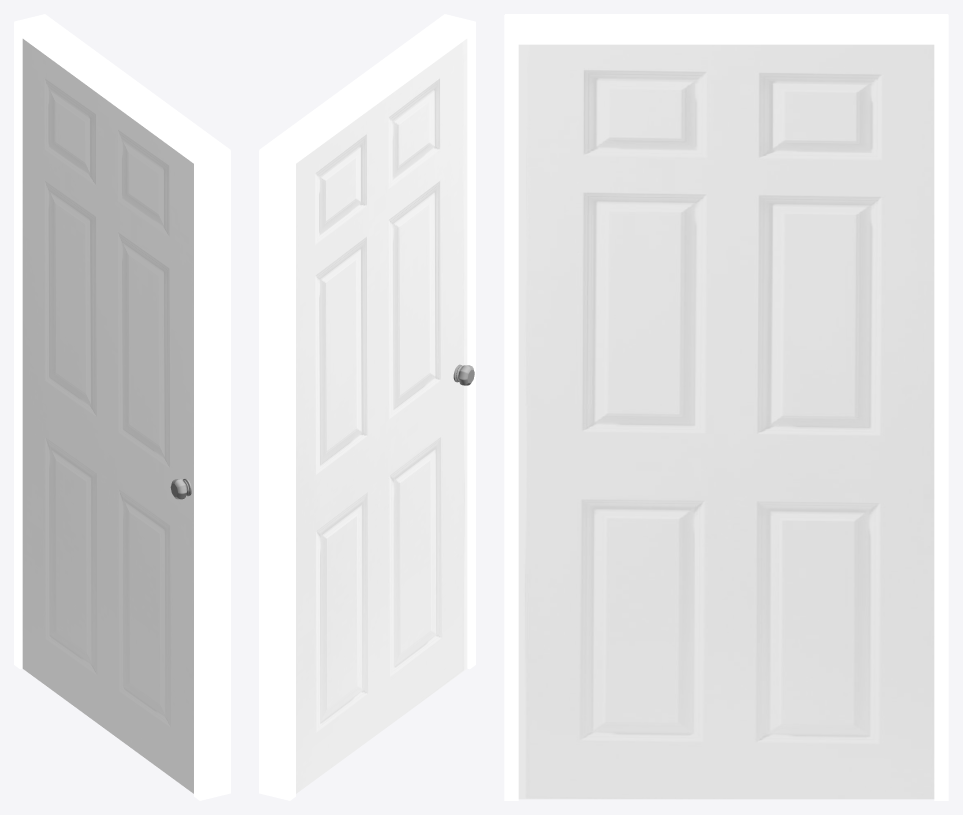
File: solid_r_swing_walkin.1f0c0e37.gltf
3 renders of one model, left to right at view 1: azimuth 30°, elevation 25°; view 2: azimuth 150°, elevation 25°; view 3: azimuth 270°, elevation 25°, orthographic. The views are drawn at different scales.
Parts seen in each view (by area): view 1: doors, trims; view 2: doors, trims; view 3: doors, trims.
Part boxes in pixels (<box>): doors: <box>22,39,193,793</box>; trims: <box>14,14,230,800</box>; doors: <box>296,39,467,793</box>; trims: <box>259,14,475,800</box>; doors: <box>518,44,934,799</box>; trims: <box>504,14,948,800</box>.
Bounding box in the file's own units: 0.4039 × 6.01 × 3.14.
3 materials, 1 textured.
